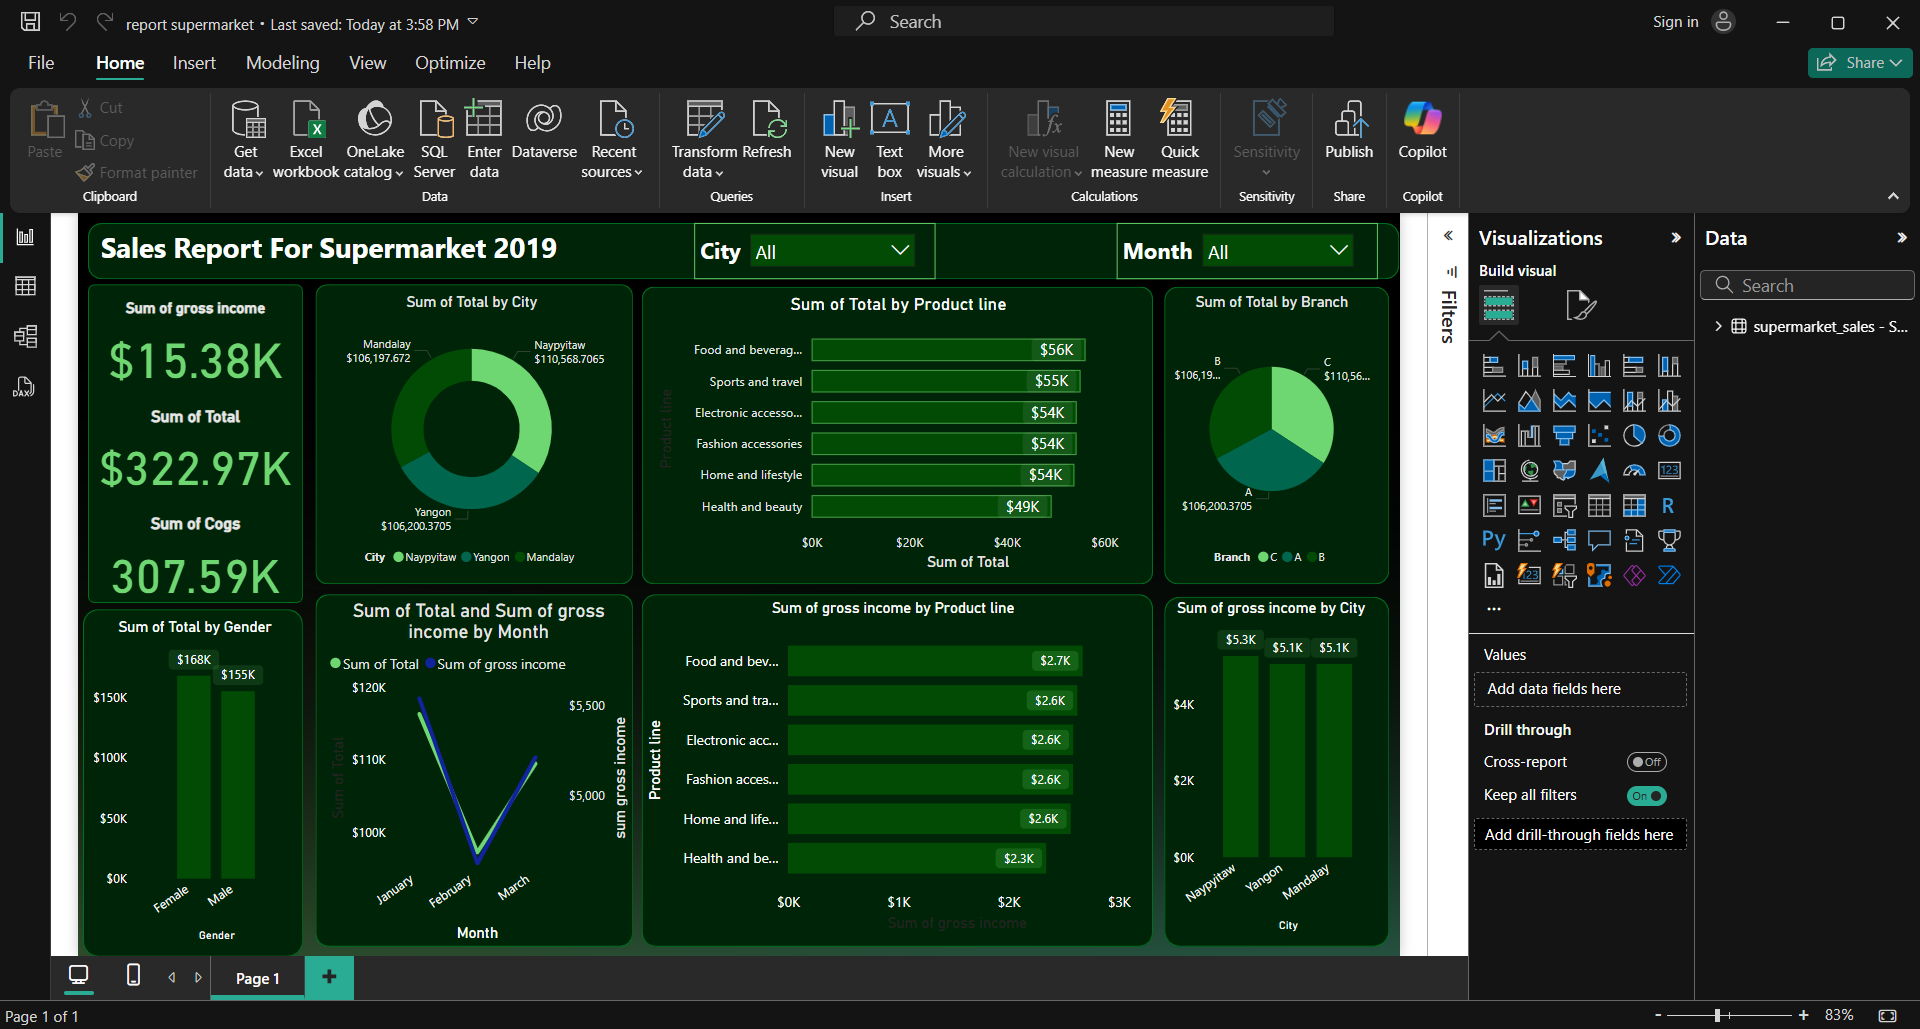

The dashboard page shown, as its layout file describes it:
{"tool":"powerbi","page":{"name":"Page 1","canvas":[1280,720],"ordinal":0},"visuals":[{"type":"shape","box":[9.7,9.7,1269.8,54.5],"z":0},{"type":"textbox","box":[596.8,9.7,233.6,54.5],"z":1000},{"type":"shape","box":[1051.9,371.6,217.9,338.9],"z":2000},{"type":"shape","box":[230,369.2,307.5,341.4],"z":3000},{"type":"shape","box":[545.9,369.2,495.1,341.4],"z":4000},{"type":"shape","box":[4.8,383.7,213,336.5],"z":5000},{"type":"shape","box":[545.9,71.4,495.1,288.1],"z":6000},{"type":"shape","box":[230,69,307.5,290.5],"z":7000},{"type":"shape","box":[1051.9,71.4,217.9,288.1],"z":8000},{"type":"textbox","box":[16.9,9.7,487.8,54.5],"z":9000},{"type":"shape","box":[9.7,68.6,208.2,308.7],"z":10000},{"type":"card","title":"Sum of gross income","fields":{"Values":["Sum(supermarket_sales - Sheet1.gross income)"]},"box":[9.7,83.5,208.2,92],"z":11000},{"type":"card","title":"Sum of Total","fields":{"Values":["Sum(supermarket_sales - Sheet1.Total)"]},"box":[9.7,187.6,208.2,92],"z":12000},{"type":"card","title":"Sum of Cogs","fields":{"Values":["Sum(supermarket_sales - Sheet1.cogs)"]},"box":[9.7,291.7,208.2,92],"z":13000},{"type":"pieChart","title":"Total by Branch","fields":{"Category":["supermarket_sales - Sheet1.Branch"],"Y":["Sum(supermarket_sales - Sheet1.Total)"]},"box":[1051.9,77.5,208.2,273.6],"z":14000},{"type":"donutChart","title":"Total by City","fields":{"Category":["supermarket_sales - Sheet1.City"],"Y":["Sum(supermarket_sales - Sheet1.Total)"]},"box":[238.5,77.5,285.7,273.6],"z":15000},{"type":"clusteredBarChart","title":"Total by Product line","fields":{"Category":["supermarket_sales - Sheet1.Product line"],"Y":["Sum(supermarket_sales - Sheet1.Total)"]},"box":[556.8,77.5,475.7,273.6],"z":16000},{"type":"clusteredColumnChart","title":"Total by Gender","fields":{"Category":["supermarket_sales - Sheet1.Gender"],"Y":["Sum(supermarket_sales - Sheet1.Total)"]},"box":[9.7,392,207,318.4],"z":17000},{"type":"lineChart","title":"Total and gross income by Month","fields":{"Y":["Sum(supermarket_sales - Sheet1.Total)"],"Category":["supermarket_sales - Sheet1.Date.Variation.Date Hierarchy.Month"],"Y2":["Sum(supermarket_sales - Sheet1.gross income)"]},"box":[238.5,374,299,336.5],"z":18000},{"type":"clusteredBarChart","title":"gross income by Product line","fields":{"Category":["supermarket_sales - Sheet1.Product line"],"Y":["Sum(supermarket_sales - Sheet1.gross income)"]},"box":[545.9,374,486.6,326.8],"z":19000},{"type":"clusteredColumnChart","fields":{"Category":["supermarket_sales - Sheet1.City"],"Y":["Sum(supermarket_sales - Sheet1.gross income)"]},"box":[1051.9,374,207,326.8],"z":20000},{"type":"slicer","title":"df","fields":{"Values":["supermarket_sales - Sheet1.City"]},"box":[640.4,9.7,180.4,54.5],"z":21000},{"type":"slicer","title":"df","fields":{"Values":["supermarket_sales - Sheet1.Date.Variation.Date Hierarchy.Month"]},"box":[1078.6,9.7,167,54.5],"z":21001},{"type":"textbox","box":[1005.9,9.7,253,54.5],"z":21002}]}

Visuals, with their boxes on the page's 1280x720 design canvas (x1, y1, x2, y2). These are canvas units, not pixel positions in the 1920x1029 screenshot, which may show the page scaled, cropped or inside an application window:
shape: rect(10, 10, 1280, 64)
textbox: rect(597, 10, 830, 64)
shape: rect(1052, 372, 1270, 710)
shape: rect(230, 369, 538, 711)
shape: rect(546, 369, 1041, 711)
shape: rect(5, 384, 218, 720)
shape: rect(546, 71, 1041, 360)
shape: rect(230, 69, 538, 360)
shape: rect(1052, 71, 1270, 360)
textbox: rect(17, 10, 505, 64)
shape: rect(10, 69, 218, 377)
"Sum of gross income" card: rect(10, 84, 218, 176)
"Sum of Total" card: rect(10, 188, 218, 280)
"Sum of Cogs" card: rect(10, 292, 218, 384)
"Total by Branch" pieChart: rect(1052, 78, 1260, 351)
"Total by City" donutChart: rect(238, 78, 524, 351)
"Total by Product line" clusteredBarChart: rect(557, 78, 1032, 351)
"Total by Gender" clusteredColumnChart: rect(10, 392, 217, 710)
"Total and gross income by Month" lineChart: rect(238, 374, 538, 710)
"gross income by Product line" clusteredBarChart: rect(546, 374, 1032, 701)
clusteredColumnChart - supermarket_sales - Sheet1.City x Sum(supermarket_sales - Sheet1.gross income): rect(1052, 374, 1259, 701)
"df" slicer: rect(640, 10, 821, 64)
"df" slicer: rect(1079, 10, 1246, 64)
textbox: rect(1006, 10, 1259, 64)
